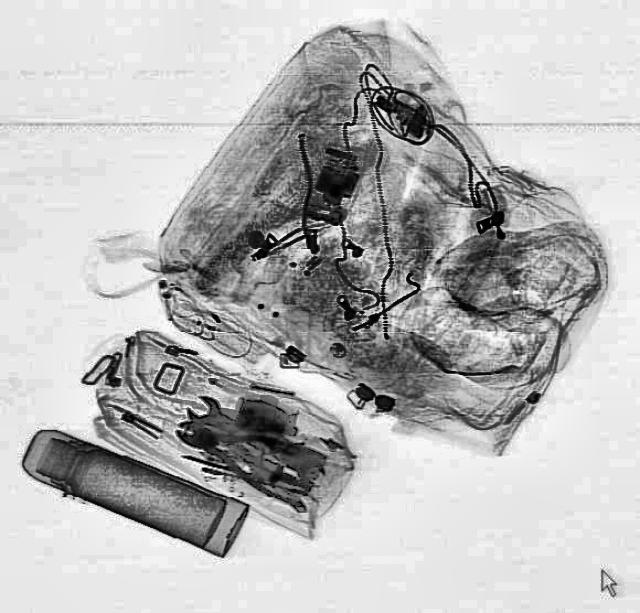Pliers: (164, 403, 306, 499)
Wrench: (182, 388, 296, 462)
